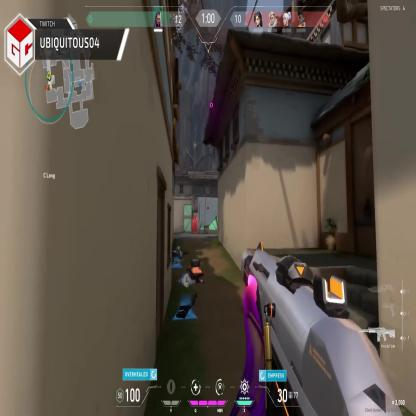enemy: (194, 215, 198, 234), (191, 216, 195, 233)
enemy_head: (192, 217, 194, 221), (195, 216, 197, 219)
